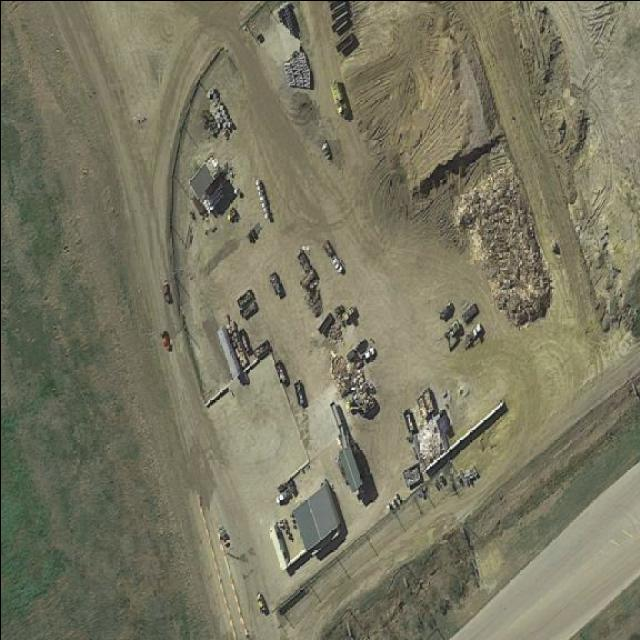dump_site: (316, 344, 387, 427), (412, 416, 444, 468)
